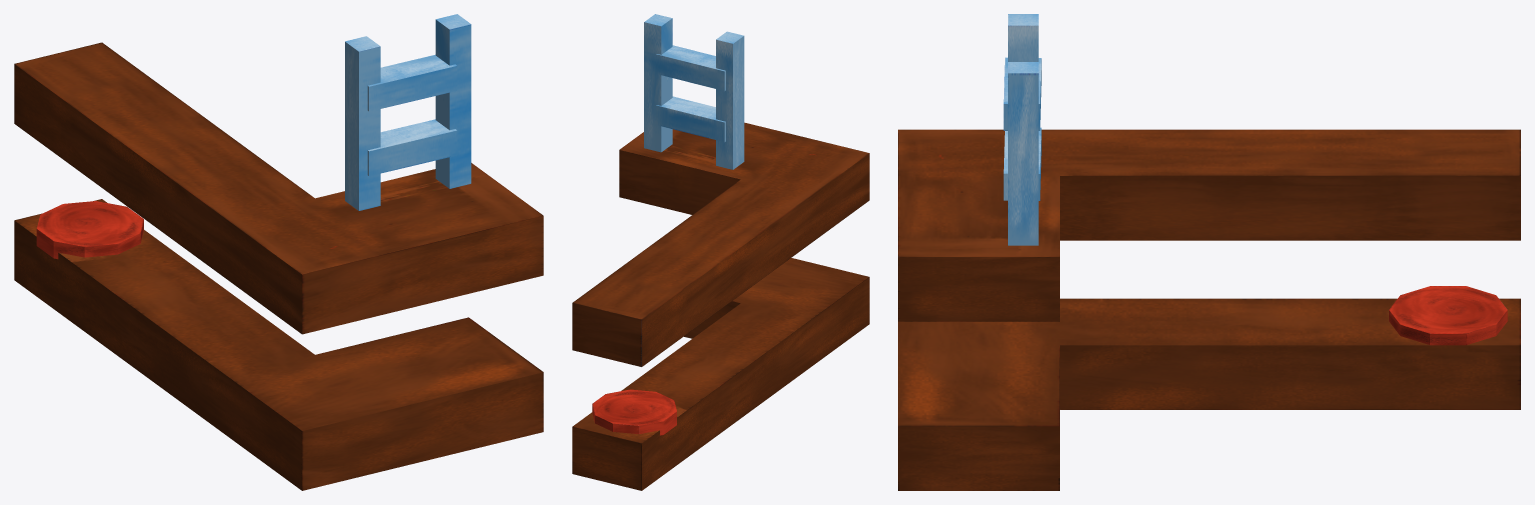
File: REPISAS CAMA.fbx
3 renders of one model, left to right at view 1: azimuth 30°, elevation 25°; view 2: azimuth 150°, elevation 25°; view 3: azimuth 270°, elevation 25°, orthographic. The views are drawn at different scales.
Parts seen in each view (by area): view 1: REPISA CAMA 01, REPISA CAMA 02, OBJETO 02, OBJETO 01; view 2: REPISA CAMA 01, REPISA CAMA 02, OBJETO 02, OBJETO 01; view 3: REPISA CAMA 01, REPISA CAMA 02, OBJETO 02, OBJETO 01.
Boxes of the visible parts, x1,y1,x2,y2 form: REPISA CAMA 01: (14,42,543,334); REPISA CAMA 02: (14,199,543,490); OBJETO 02: (345,14,471,210); OBJETO 01: (36,201,143,259); REPISA CAMA 01: (572,122,869,366); REPISA CAMA 02: (572,258,869,490); OBJETO 02: (644,14,744,169); OBJETO 01: (592,389,676,435); REPISA CAMA 01: (898,129,1520,321); REPISA CAMA 02: (898,298,1520,490); OBJETO 02: (1003,14,1041,245); OBJETO 01: (1389,286,1507,345).
Bounding box in the file's own units: 70.86 × 104 × 145.
